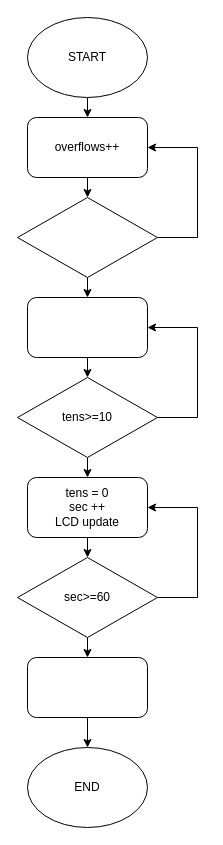
Some shapes in this 223 by 845 pixel diagram are drawn without their labels. Each missing label, with the box of its shape:
overflows = 0 tens++ LCD update: (26, 296, 148, 358)
overflows >=6: (16, 196, 158, 278)
sec = 0 LCD update: (26, 656, 148, 718)
